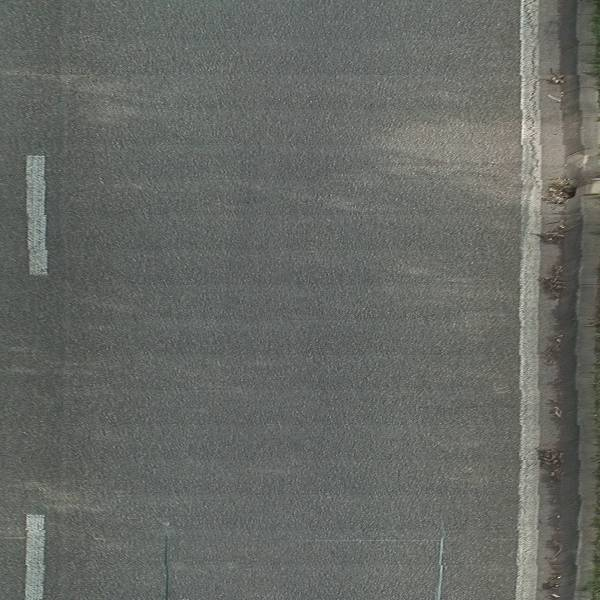road_damage: (158, 530, 177, 599), (433, 536, 446, 600)
